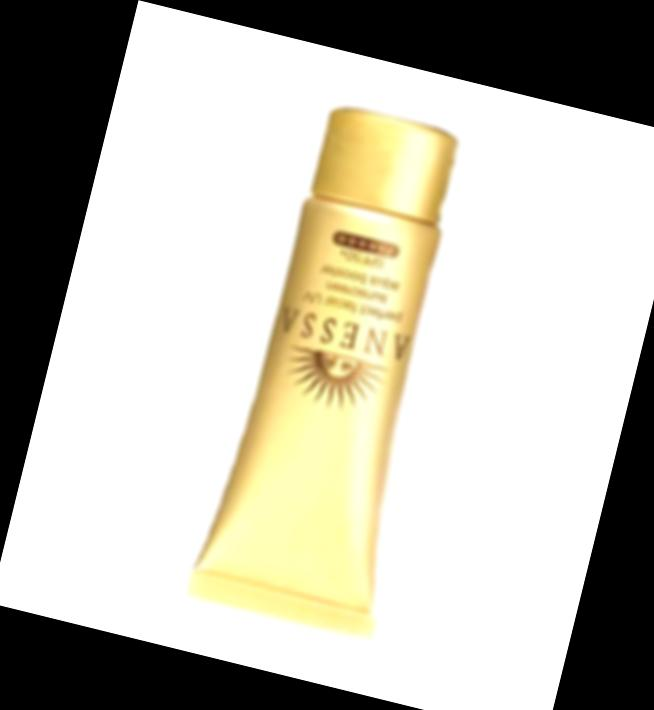cosmetic: (184, 95, 498, 641)
